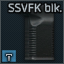SIG Sauer Vertical Foregrip KeyMod Black: (0, 0, 64, 64)
